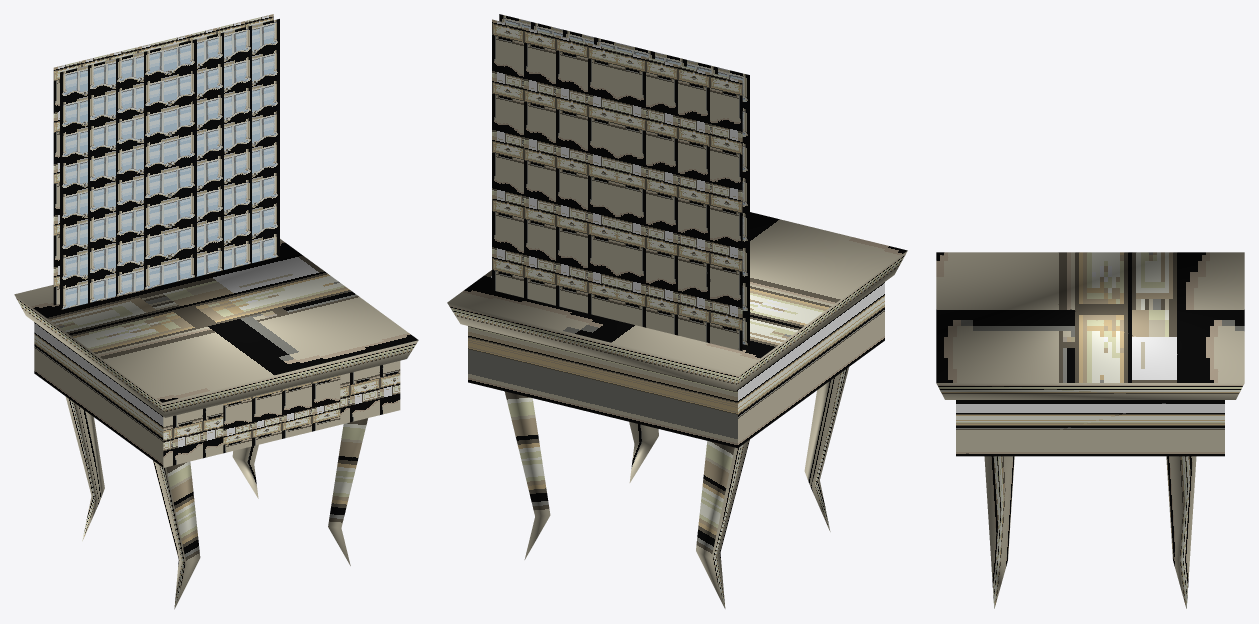
File: 3091IMRL06_09.gltf
The picture shows the model from 3 angles, left to right: view 1: azimuth 30°, elevation 25°; view 2: azimuth 150°, elevation 25°; view 3: azimuth 270°, elevation 25°; orthographic projection. The views are drawn at different scales.
Parts seen in each view (by area): view 1: 3091IMRL06_09; view 2: 3091IMRL06_09; view 3: 3091IMRL06_09.
Part boxes in pixels (<box>): 3091IMRL06_09: <box>14,14,418,609</box>; 3091IMRL06_09: <box>447,14,907,608</box>; 3091IMRL06_09: <box>936,252,1244,608</box>.
Size of the model in its own units: 0.9497 by 1.68 by 0.9497.
2 materials, 2 textured.
